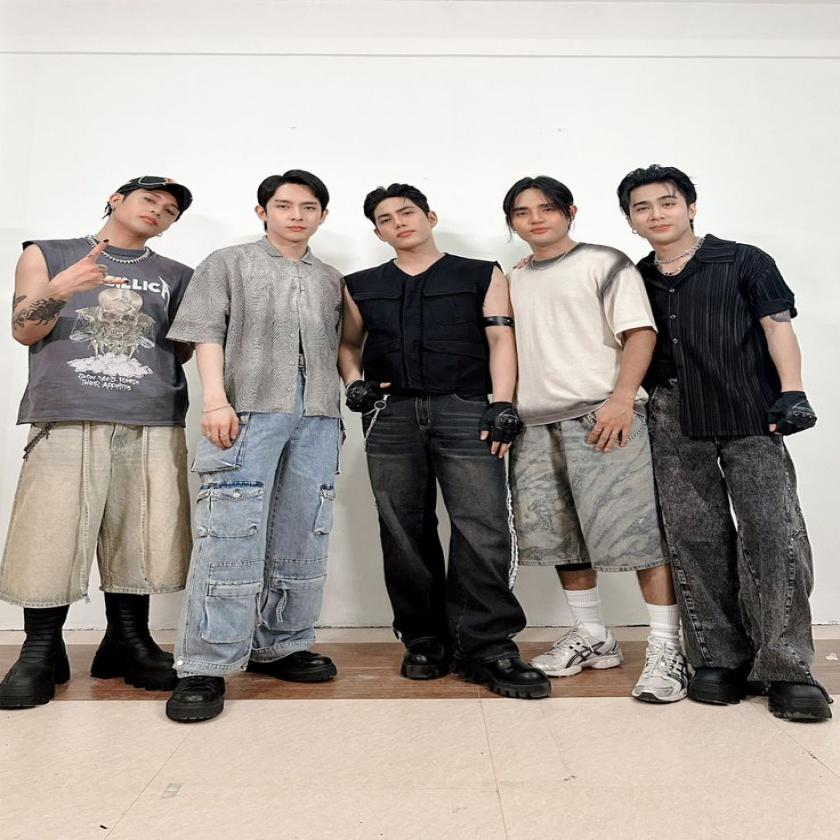Sin_casco: (253, 165, 336, 257), (359, 184, 444, 271), (623, 164, 699, 249), (506, 175, 582, 254)
